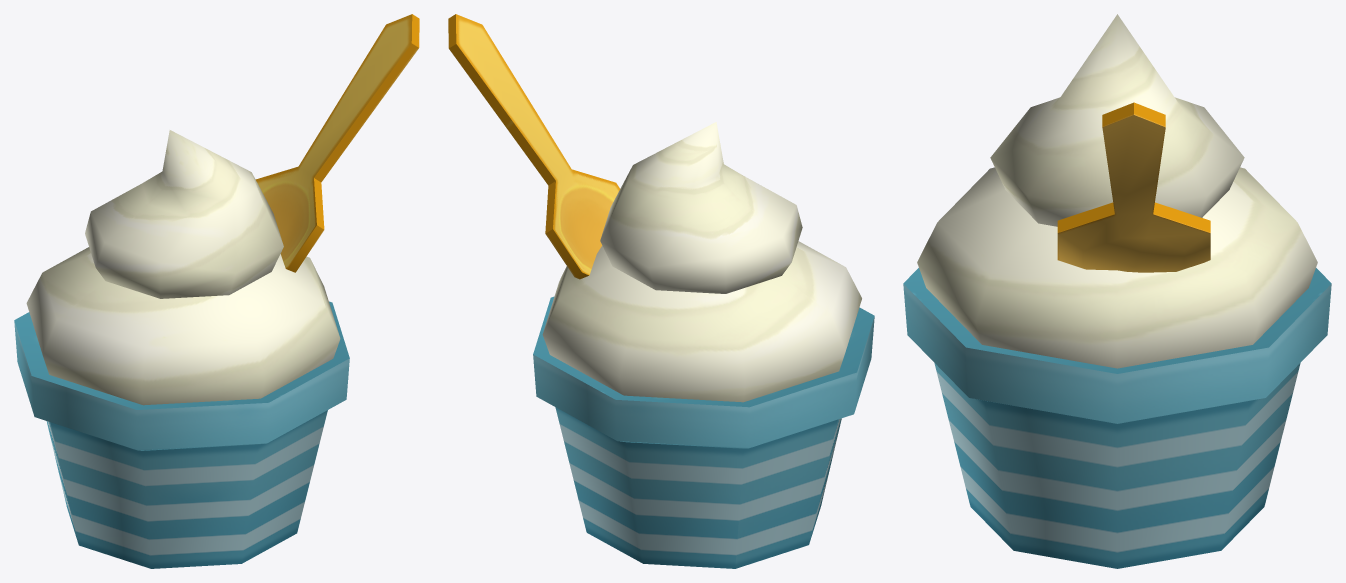
The model's file is cup ice cream.FBX.
3 renders of one model, left to right at view 1: azimuth 30°, elevation 25°; view 2: azimuth 150°, elevation 25°; view 3: azimuth 270°, elevation 25°, orthographic. The views are drawn at different scales.
Parts seen in each view (by area): view 1: cup ice cream; view 2: cup ice cream; view 3: cup ice cream.
Boxes of the visible parts, x1,y1,x2,y2 form: cup ice cream: [14, 14, 419, 568]; cup ice cream: [448, 14, 874, 568]; cup ice cream: [903, 14, 1331, 568].
Size of the model in its own units: 5.09 by 5.46 by 3.88.
